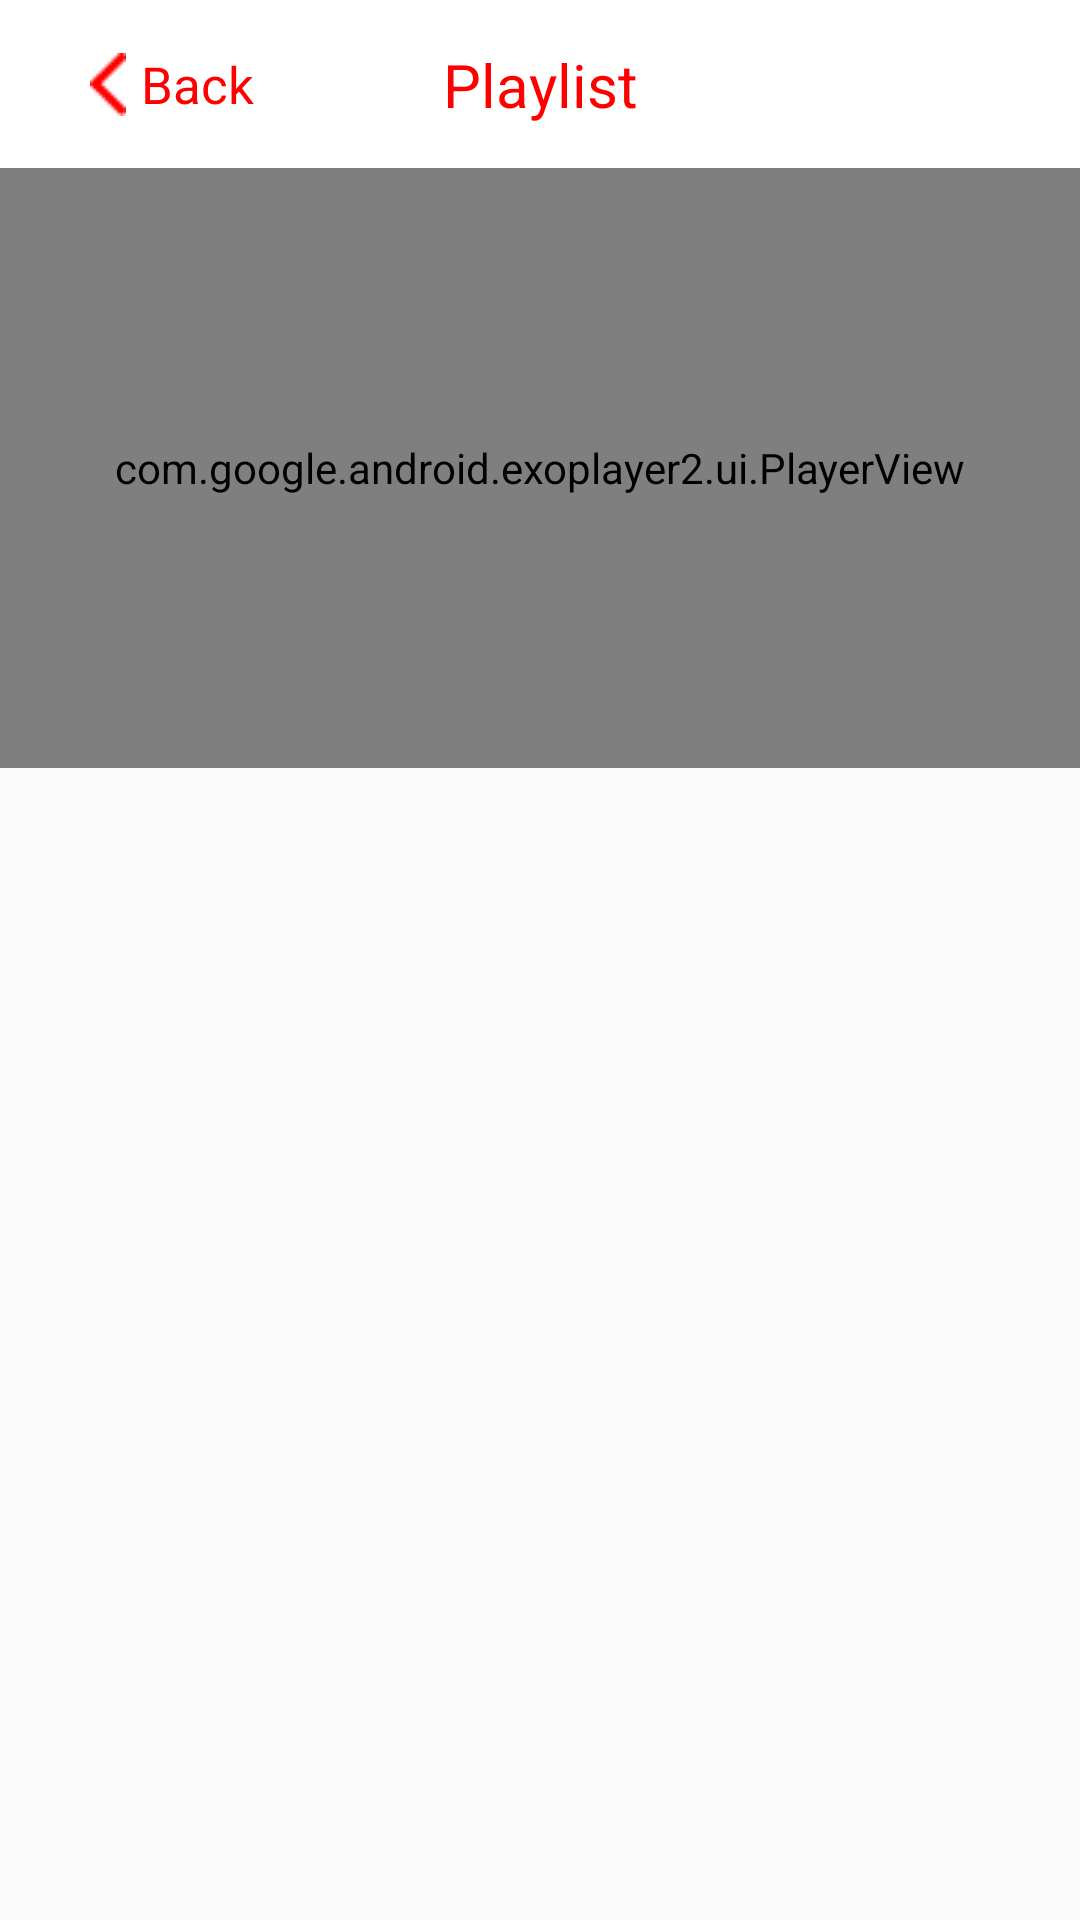

Icons on this 1080×1920 Android screen, each with the point to tap as (x,y):
arrow: (108,84)
